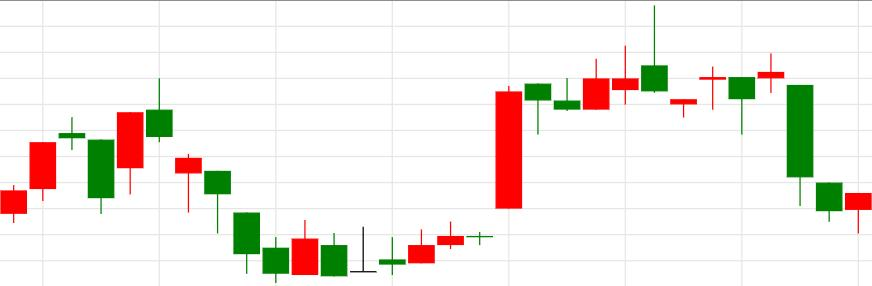shooting_star_fall: (319, 6, 669, 278)
